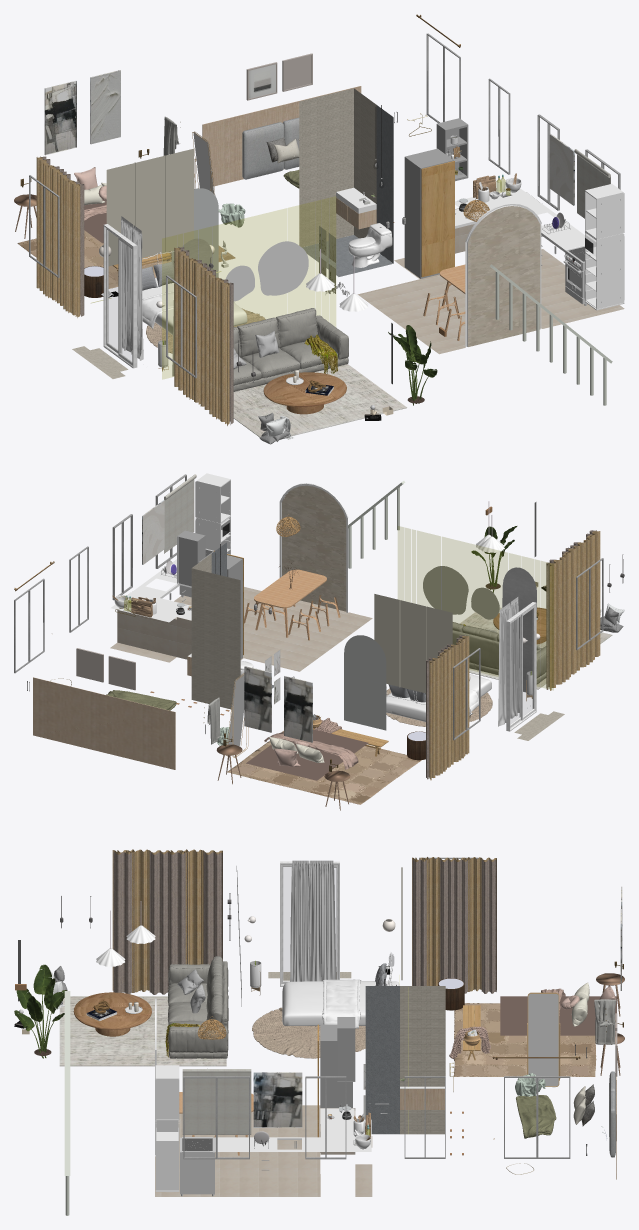
Rendered from burgos-floor-3-0.glb.
3 renders of one model, top to bottom at view 1: azimuth 30°, elevation 25°; view 2: azimuth 150°, elevation 25°; view 3: azimuth 270°, elevation 25°, orthographic. The views are drawn at different scales.
Parts seen in each view (by area): view 1: 3DGeom-48.030, 3DGeom-17.002, 3DGeom-1711.001, 3DGeom-1680.001, 3DGeom-497.001, 3DGeom-494.001, 3DGeom-1704.001, 3DGeom-1053.003, 3DGeom-965.001, 3DGeom-81.004, 3DGeom-918.001, 3DGeom-628.001 (+28 smaller); view 2: 3DGeom-1711.001, 3DGeom-48.030, 3DGeom-494.001, 3DGeom-918.001, 3DGeom-1680.001, 3DGeom-17.002, 3DGeom-497.001, 3DGeom-1704.001, 3DGeom-81.004, 3DGeom-131.002, 3DGeom-94.002, 3DGeom-9.002 (+23 smaller); view 3: 3DGeom-48.038, 3DGeom-17.002, 3DGeom-48.030, 3DGeom-494.001, 3DGeom-1680.001, 3DGeom-11.002, 3DGeom-965.001, 3DGeom-1683.001, 3DGeom-1053.003, 3DGeom-131.002, 3DGeom-674.001, 3DGeom-81.004 (+21 smaller).
Boxes of the visible parts, x1,y1,x2,y2 form: 3DGeom-48.030: [36, 157, 229, 425]; 3DGeom-17.002: [142, 153, 624, 395]; 3DGeom-1711.001: [162, 196, 335, 378]; 3DGeom-1680.001: [72, 88, 376, 378]; 3DGeom-497.001: [468, 206, 540, 346]; 3DGeom-494.001: [357, 208, 624, 354]; 3DGeom-1704.001: [106, 148, 193, 266]; 3DGeom-1053.003: [233, 308, 348, 391]; 3DGeom-965.001: [233, 364, 406, 437]; 3DGeom-81.004: [29, 33, 620, 378]; 3DGeom-918.001: [202, 86, 376, 229]; 3DGeom-628.001: [421, 161, 454, 277]; 3DGeom-1711.001: [398, 526, 553, 689]; 3DGeom-48.030: [429, 531, 600, 780]; 3DGeom-494.001: [110, 587, 372, 671]; 3DGeom-918.001: [33, 656, 191, 769]; 3DGeom-1680.001: [191, 554, 564, 740]; 3DGeom-17.002: [111, 473, 537, 721]; 3DGeom-497.001: [282, 485, 346, 611]; 3DGeom-1704.001: [374, 594, 452, 693]; 3DGeom-81.004: [14, 474, 603, 740]; 3DGeom-131.002: [227, 731, 421, 804]; 3DGeom-94.002: [344, 635, 386, 730]; 3DGeom-9.002: [142, 500, 312, 742]; 3DGeom-48.038: [113, 852, 496, 994]; 3DGeom-17.002: [86, 925, 444, 1191]; 3DGeom-48.030: [112, 849, 496, 992]; 3DGeom-494.001: [155, 1105, 372, 1196]; 3DGeom-1680.001: [268, 972, 445, 1134]; 3DGeom-11.002: [290, 860, 336, 981]; 3DGeom-965.001: [59, 996, 226, 1066]; 3DGeom-1683.001: [365, 986, 399, 1134]; 3DGeom-1053.003: [167, 956, 228, 1058]; 3DGeom-131.002: [454, 1003, 596, 1076]; 3DGeom-674.001: [182, 1069, 251, 1134]; 3DGeom-81.004: [183, 857, 570, 1159].
Size of the model in its own units: 9.31 by 3.84 by 10.46.
146 materials, 90 textured.
